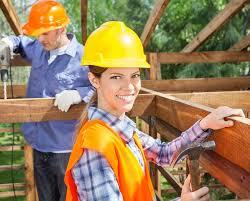Gloves: (53, 90, 84, 111), (0, 32, 14, 68)
Helmet: (80, 18, 154, 72), (20, 1, 74, 35)
Jacket: (66, 113, 158, 201)
